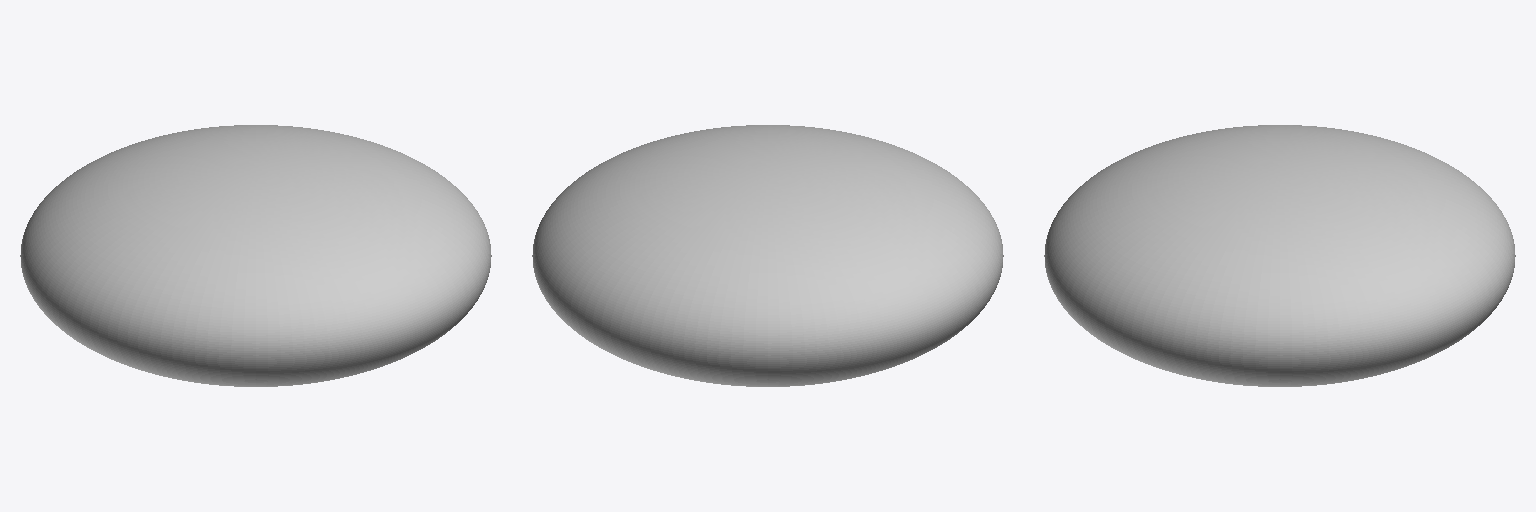
The model's file is water-temple.obj.
The picture shows the model from 3 angles: view 1: azimuth 30°, elevation 25°; view 2: azimuth 150°, elevation 25°; view 3: azimuth 270°, elevation 25°; orthographic projection.
Visible parts, largest first — view 1: pSphere1; view 2: pSphere1; view 3: pSphere1.
Boxes of the visible parts, x1,y1,x2,y2 form: pSphere1: [20, 125, 491, 386]; pSphere1: [532, 125, 1003, 386]; pSphere1: [1044, 125, 1515, 386].
Bounding box in the file's own units: 16.04 × 6.41 × 16.04.